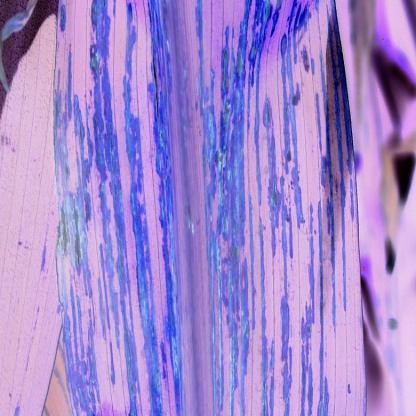corn leaf blight: (51, 1, 366, 415)
